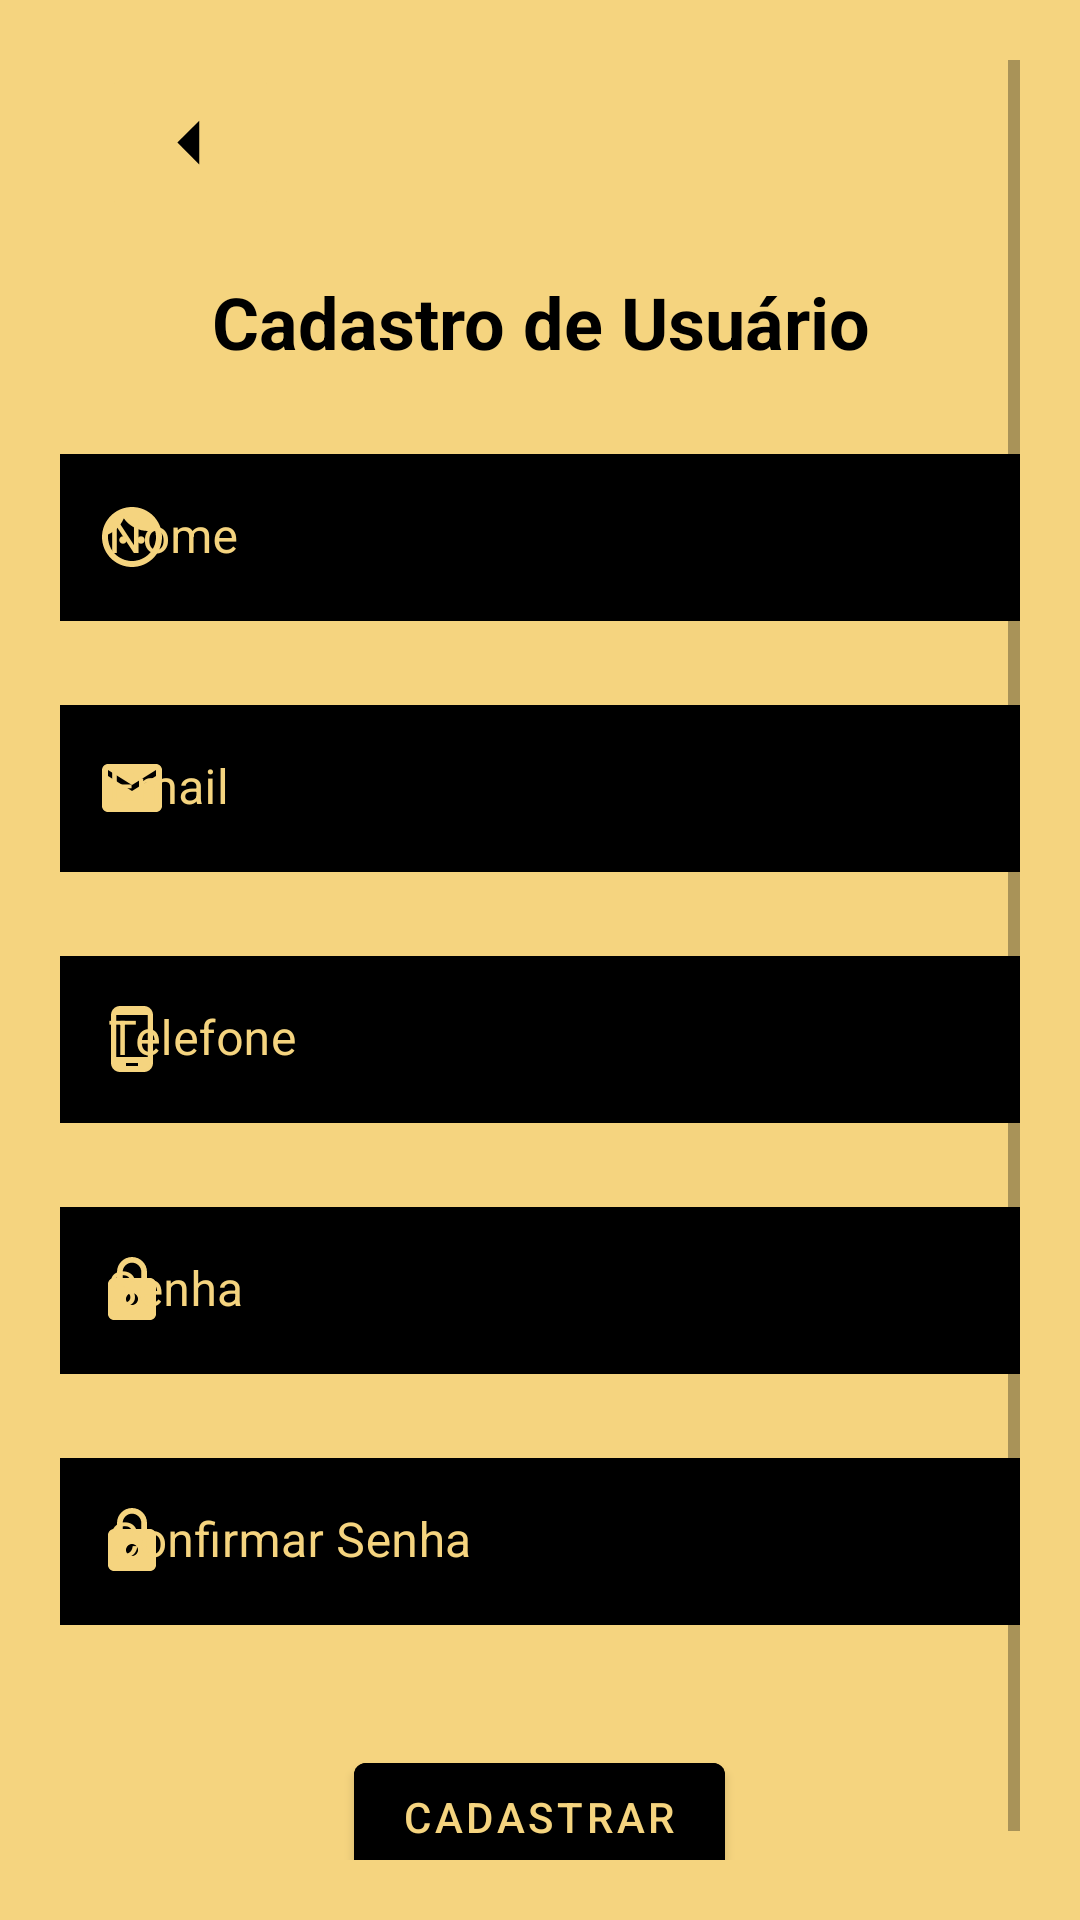

Named icons in this screenshot (1080w x 1920h) and their bounding boxes, {"x1": x1, "y1": y1, "x2": x2, "y2": y2}:
left: {"x1": 177, "y1": 121, "x2": 200, "y2": 164}
